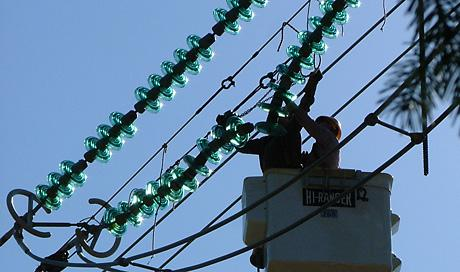gap: (187, 6, 241, 63), (58, 135, 113, 188), (109, 86, 162, 138)
isolator: (33, 1, 358, 237)
